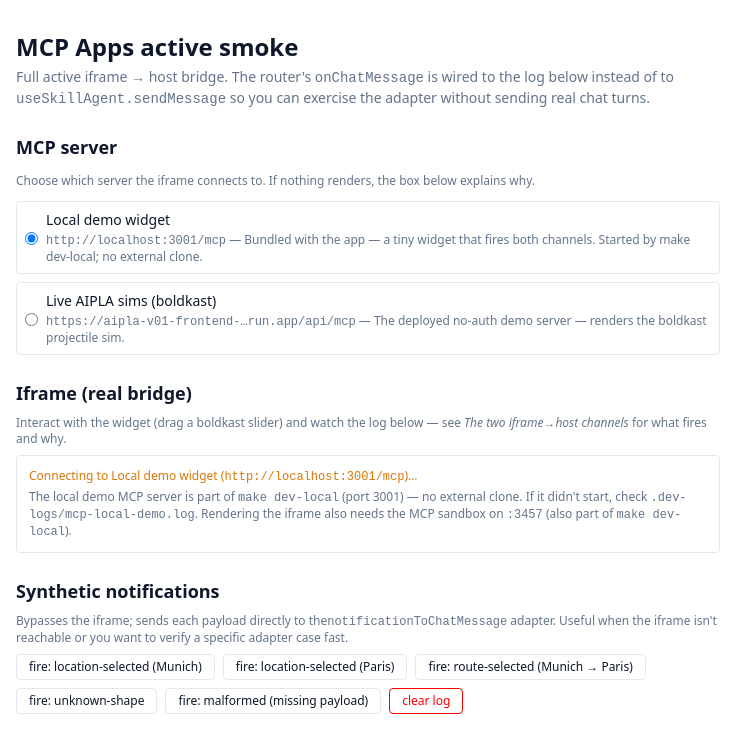
/dev/mcp-apps/active › selecting the AIPLA server switches the active selection
Click the radio button labelled "Live AIPLA sims" at [32, 320], box x1=25 y1=293 x2=38 y2=346
(page scrolled)
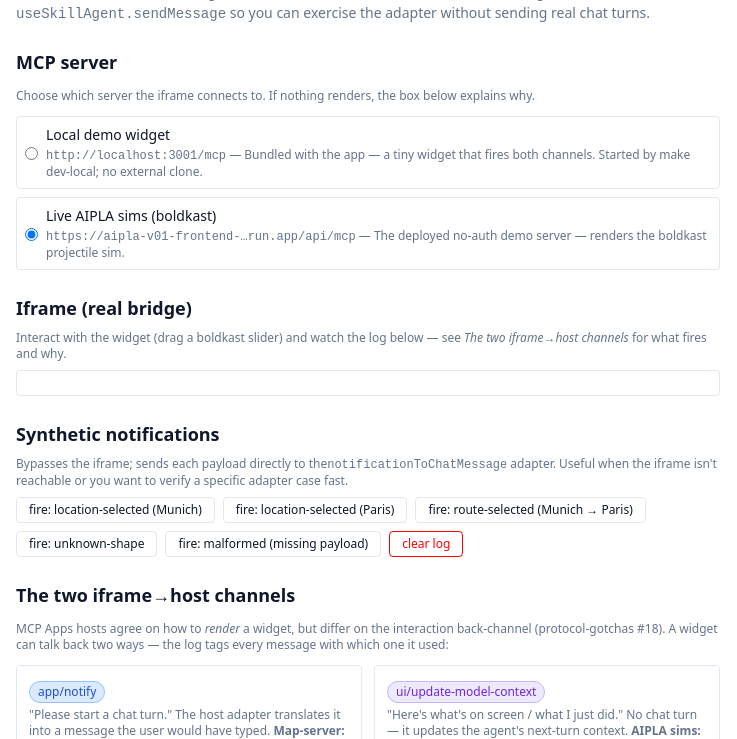
Expected: the radio button labelled "Live AIPLA sims" is checked, x1=25 y1=208 x2=38 y2=261
Expected: the radio button labelled "Local demo widget" is not checked, x1=25 y1=127 x2=38 y2=180
